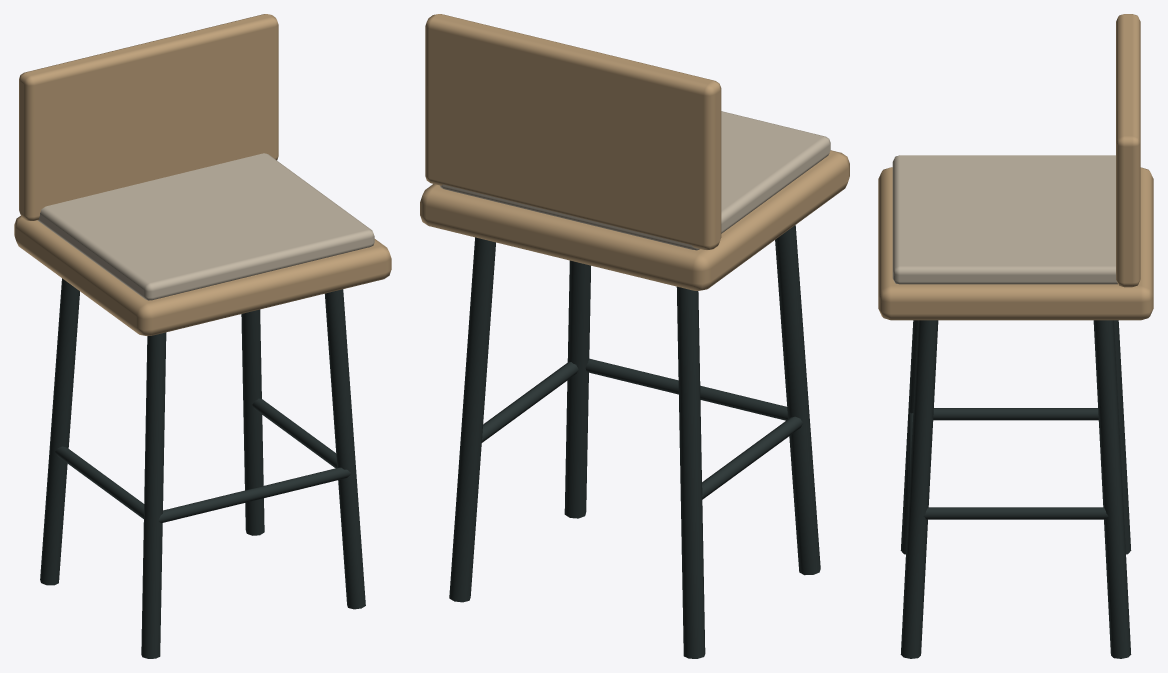
File: stool-balanced-681df2f95b.glb
3 renders of one model, left to right at view 1: azimuth 30°, elevation 25°; view 2: azimuth 150°, elevation 25°; view 3: azimuth 270°, elevation 25°, orthographic. The views are drawn at different scales.
Visible parts, largest first — view 1: oak, textile, dark; view 2: oak, dark, textile; view 3: textile, dark, oak.
Boxes of the visible parts, left/top/right/bottom form: oak: left=14, top=14, right=391, bottom=335; textile: left=37, top=153, right=374, bottom=300; dark: left=40, top=278, right=365, bottom=658; oak: left=420, top=14, right=849, bottom=290; dark: left=449, top=225, right=820, bottom=658; textile: left=440, top=111, right=830, bottom=250; textile: left=892, top=155, right=1117, bottom=284; dark: left=900, top=320, right=1131, bottom=658; oak: left=878, top=14, right=1153, bottom=320.
Bounding box in the file's own units: 0.42 × 0.8049 × 0.38.
